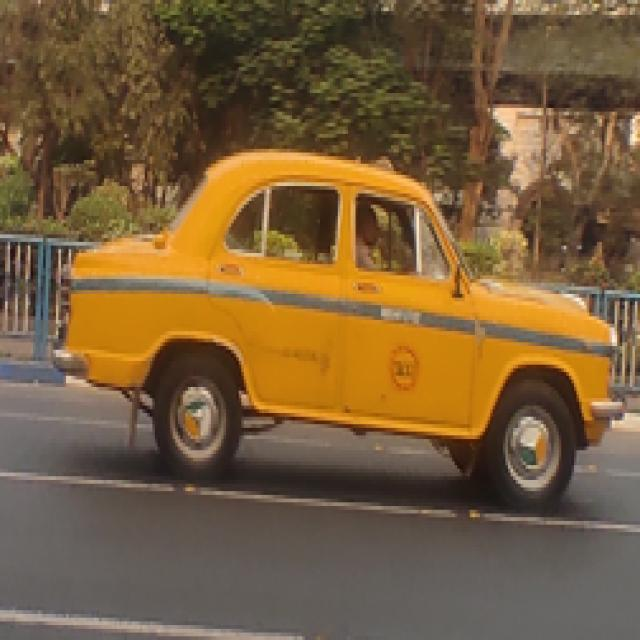ambasador_taxi: (47, 132, 632, 515)
